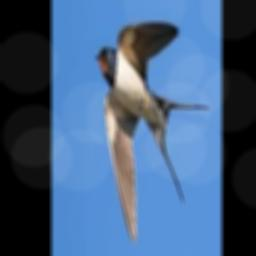Swallow: (95, 22, 209, 242)
